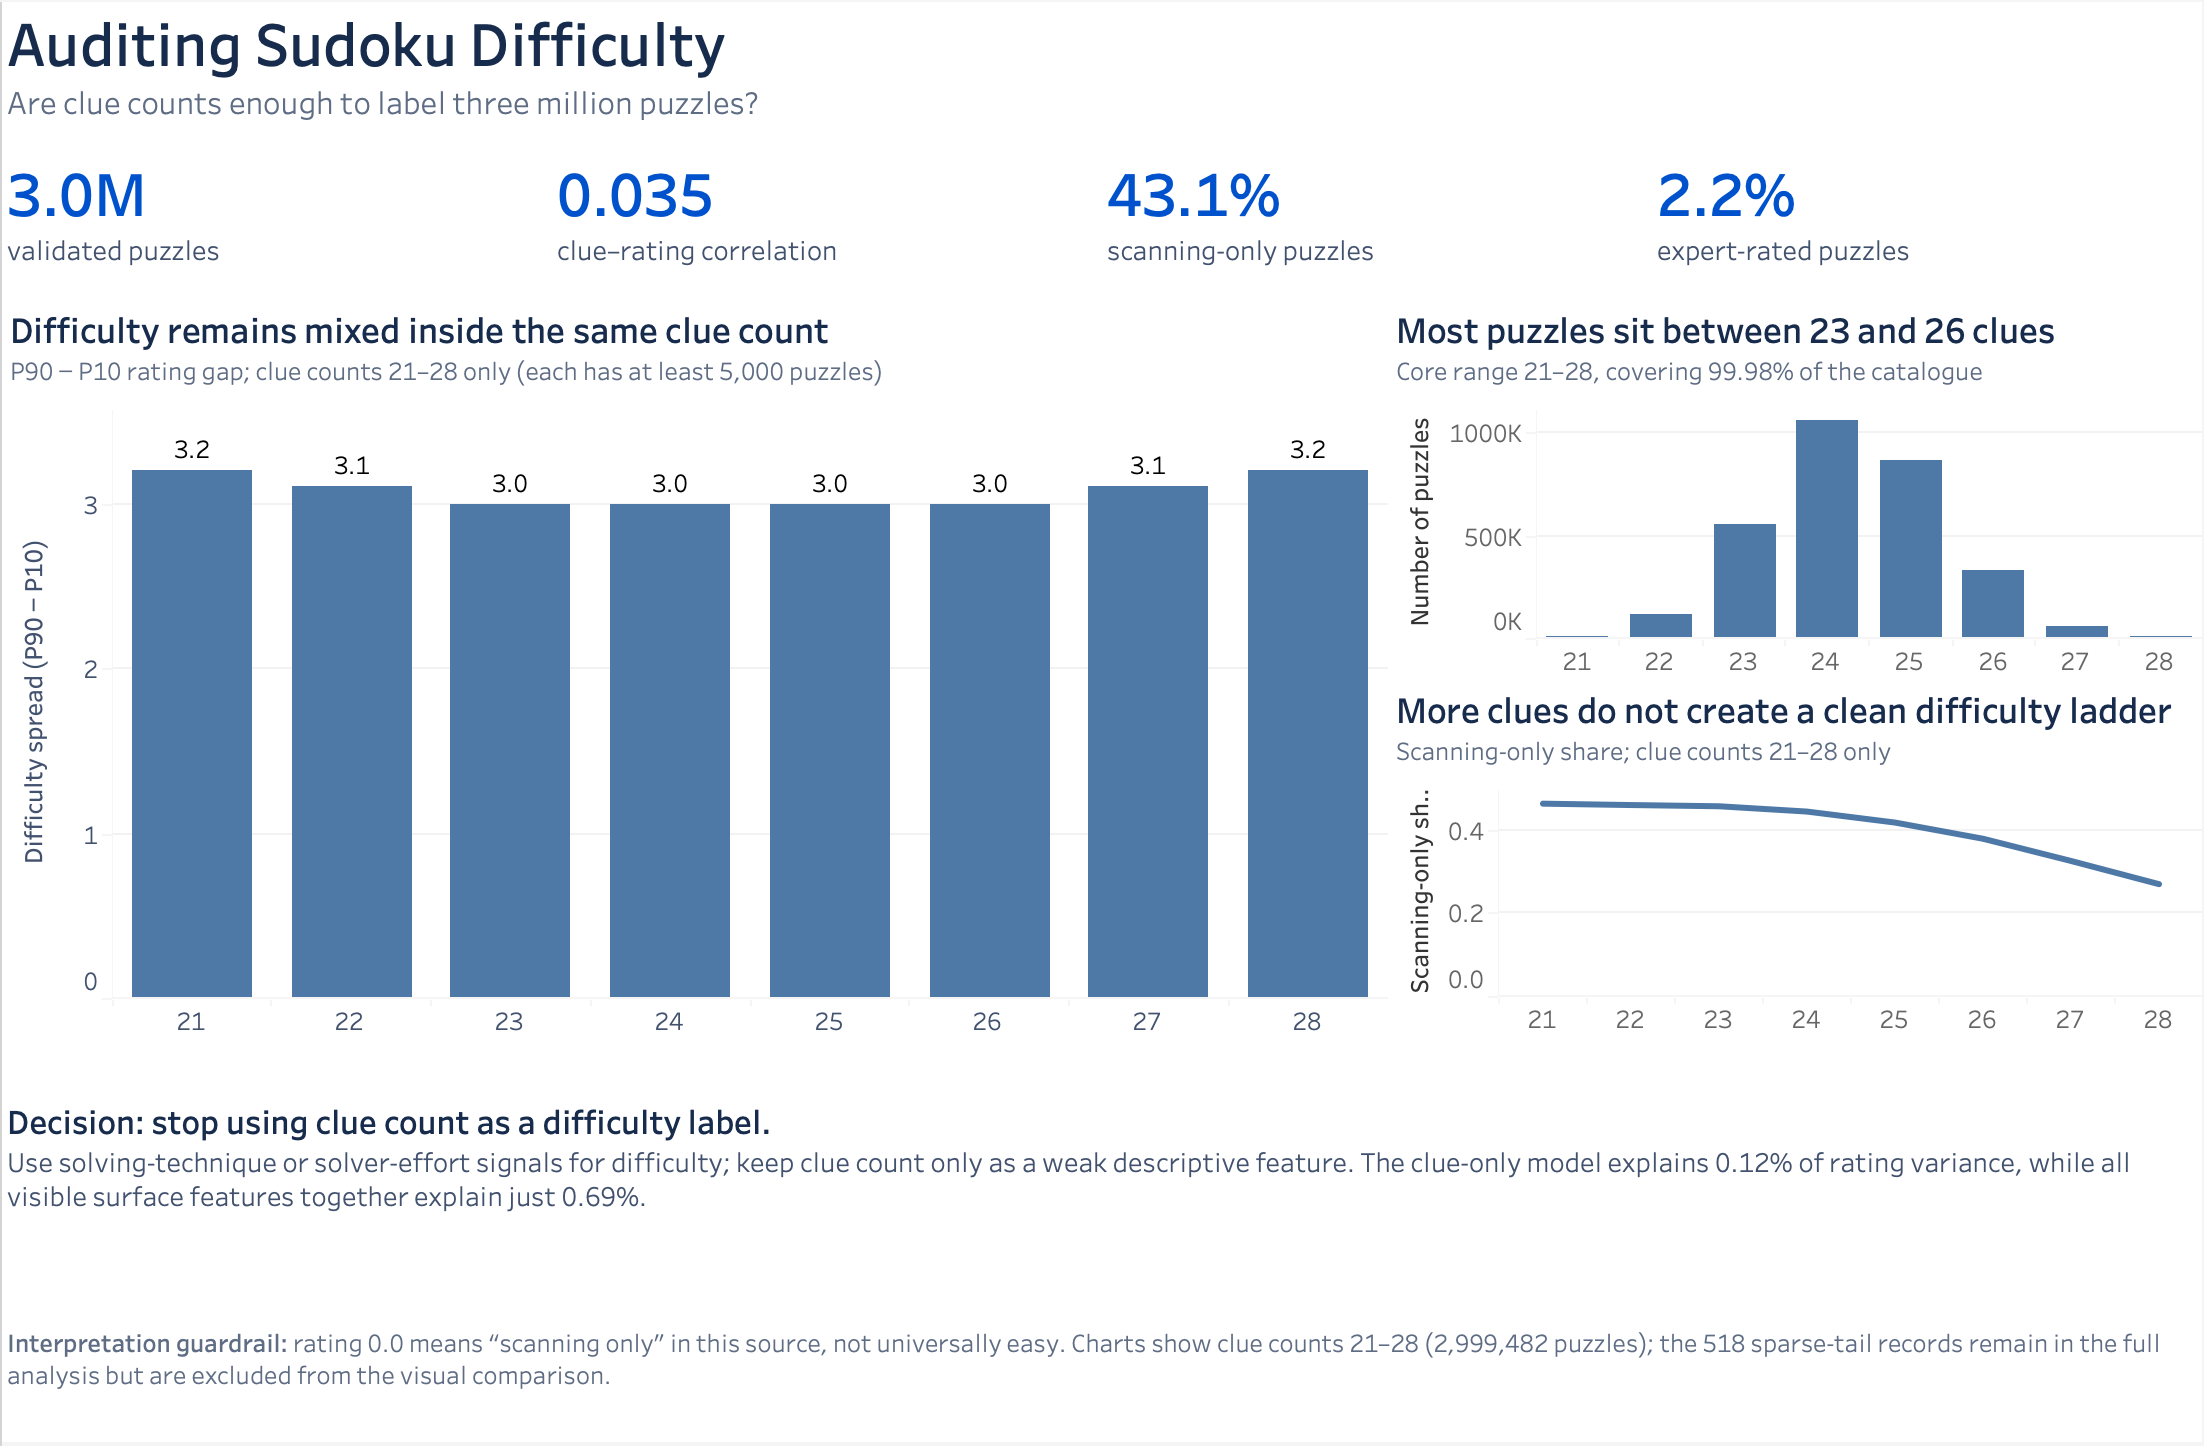

The dashboard page shown, as its layout file describes it:
{"tool":"tableau","page":{"name":"Auditing Sudoku Difficulty","canvas":[1100,720],"ordinal":0},"visuals":[{"type":"text","box":[0,0,1100,61.2]},{"type":"text","box":[0,61.2,275,86.4]},{"type":"text","box":[275,61.2,275,86.4]},{"type":"text","box":[550,61.2,275,86.4]},{"type":"text","box":[825,61.2,275,86.4]},{"type":"worksheet","title":"Difficulty spread by clues","mark":"Bar","rows":["central_80_range"],"cols":["clues"],"box":[0,147.6,693,370.8]},{"type":"worksheet","title":"Catalogue concentration","mark":"Bar","rows":["puzzle_count"],"cols":["clues"],"box":[693,147.6,407,190.8]},{"type":"worksheet","title":"Scanning-only share","mark":"Line","rows":["scanning_only_share"],"cols":["clues"],"box":[693,338.4,407,180]},{"type":"text","box":[0,518.4,1100,118.8]},{"type":"text","box":[0,637.2,1100,82.8]}]}

Visuals, with their boxes in screenshot pixels (x1, y1, x2, y2), scaled from the page's 1100x720 canvas onto the 2204x1446 screenshot:
text: crop(0, 0, 2203, 123)
text: crop(0, 123, 551, 296)
text: crop(551, 123, 1102, 296)
text: crop(1102, 123, 1653, 296)
text: crop(1653, 123, 2203, 296)
"Difficulty spread by clues" worksheet (Bar marks): crop(0, 296, 1389, 1041)
"Catalogue concentration" worksheet (Bar marks): crop(1389, 296, 2203, 680)
"Scanning-only share" worksheet (Line marks): crop(1389, 680, 2203, 1041)
text: crop(0, 1041, 2203, 1280)
text: crop(0, 1280, 2203, 1445)
